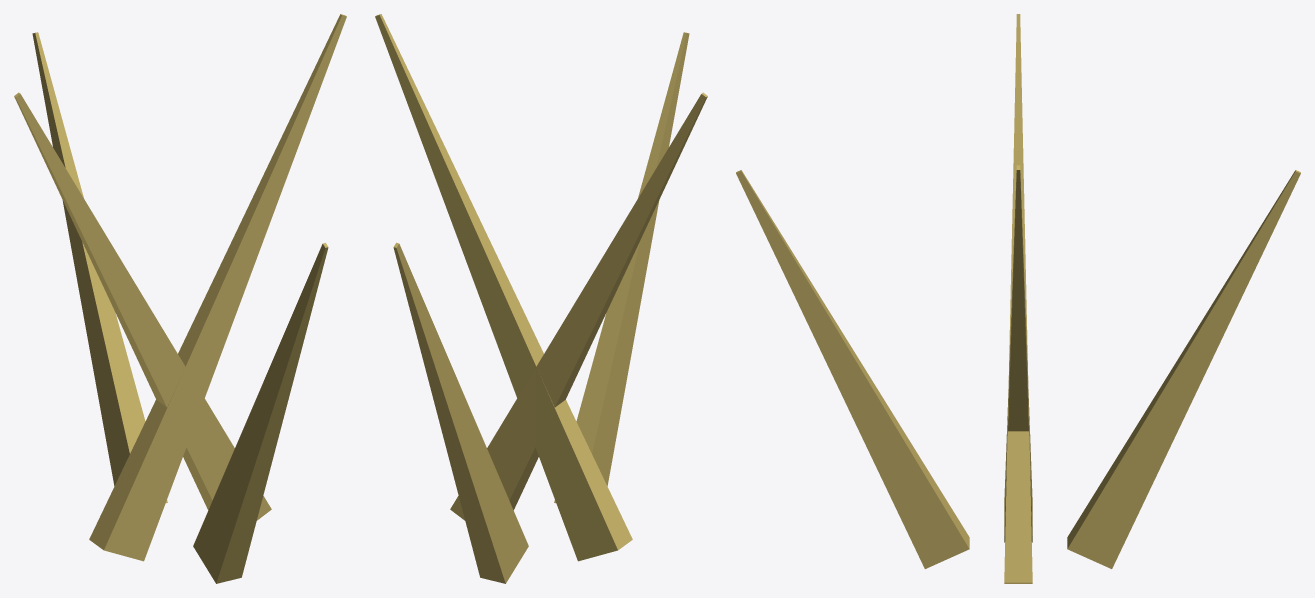
File: prop_dune_grass.glb
The picture shows the model from 3 angles, left to right: view 1: azimuth 30°, elevation 25°; view 2: azimuth 150°, elevation 25°; view 3: azimuth 270°, elevation 25°; orthographic projection. The views are drawn at different scales.
Parts seen in each view (by area): view 1: prop_dune_grass; view 2: prop_dune_grass; view 3: prop_dune_grass.
Part boxes in pixels (x1,y1,x2,y2): prop_dune_grass: [14, 14, 346, 583]; prop_dune_grass: [375, 14, 707, 583]; prop_dune_grass: [736, 14, 1300, 583].
Size of the model in its own units: 0.2589 by 0.3671 by 0.3968.
